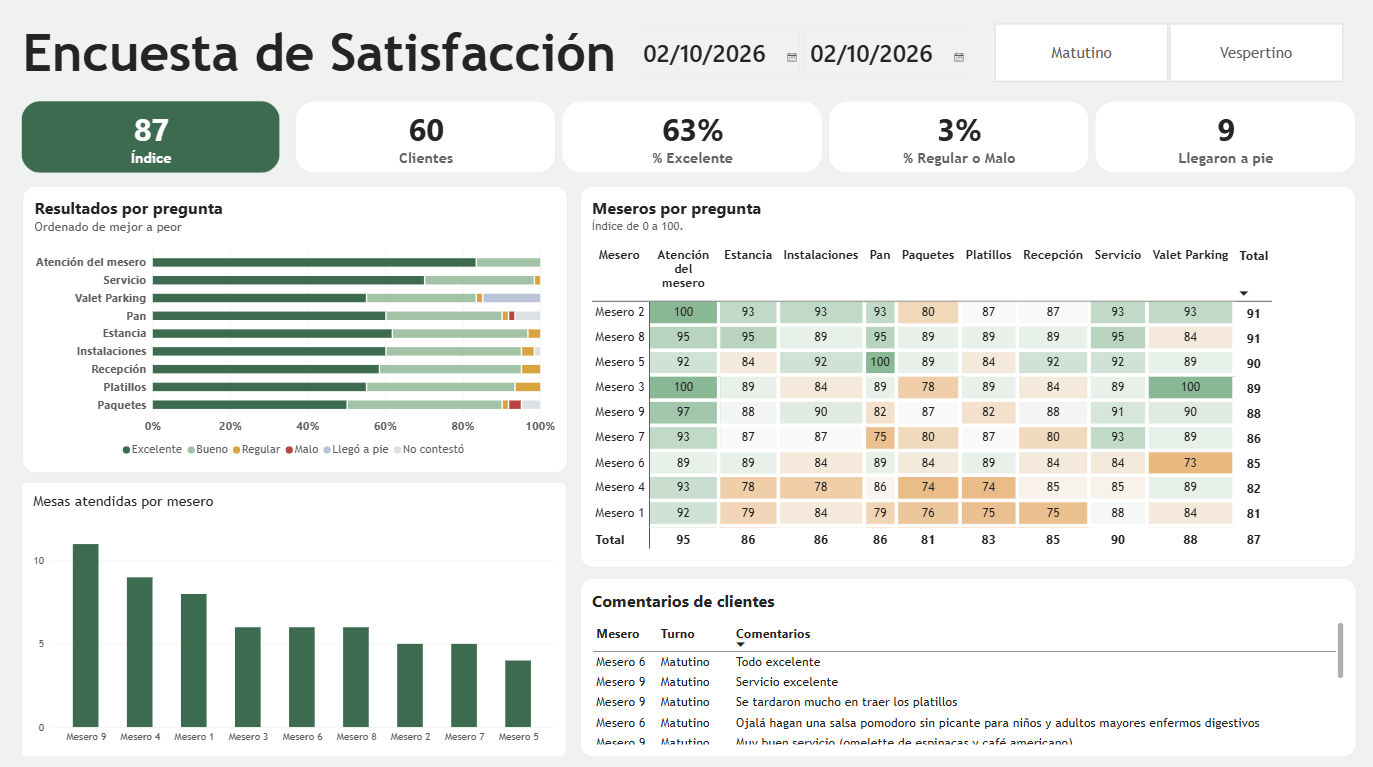

Layout of this report page (visuals, bound fields, positions):
{"tool":"powerbi","page":{"name":"Página 1","canvas":[1920,1080],"ordinal":0},"visuals":[{"type":"hundredPercentStackedBarChart","title":"Resultados por pregunta","fields":{"Category":["Calificaciones.Pregunta"],"Series":["Escala.Respuesta"],"Y":["Calificaciones.Total respuestas"]},"box":[31.4,263.4,760.5,401.2],"z":0},{"type":"pivotTable","title":"Meseros por pregunta","fields":{"Columns":["Calificaciones.Pregunta"],"Rows":["Respuestas.Mesero"],"Values":["Calificaciones.Índice"]},"box":[809.3,263.4,1082.5,532.5],"z":1000},{"type":"slicer","fields":{"Values":["Respuestas.Turno"]},"box":[1367.5,35,525,85],"z":2000},{"type":"cardVisual","fields":{"Data":["Calificaciones.Clientes","Calificaciones.% Excelente","Calificaciones.% Regular o Malo","Calificaciones.Llegaron a pie"]},"box":[411.6,144.8,1480.8,101.2],"z":3000},{"type":"tableEx","title":"Comentarios de clientes","fields":{"Values":["Respuestas.Mesero","Respuestas.Turno","Respuestas.Comentarios"]},"box":[809.3,811,1083.1,249.4],"z":4000},{"type":"textbox","box":[30,35,831.6,111.1],"z":5000},{"type":"slicer","fields":{"Values":["Respuestas.Fecha"]},"box":[880,35,487.8,84.4],"z":6000},{"type":"cardVisual","fields":{"Data":["Calificaciones.Índice"]},"box":[29.7,144.8,361,101.2],"z":7000},{"type":"clusteredColumnChart","title":"Mesas atendidas por mesero","fields":{"Category":["Respuestas.Mesero"],"Y":["Calificaciones.Clientes"]},"box":[29.7,676.7,760.5,383.7],"z":7001}]}

Visuals, with their boxes in screenshot pixels (x1, y1, x2, y2), scaled from the page's 1920x1080 canvas onto the 1373x767 screenshot:
"Resultados por pregunta" hundredPercentStackedBarChart: (22,187,566,472)
"Meseros por pregunta" pivotTable: (579,187,1353,565)
slicer - Respuestas.Turno: (978,25,1353,85)
cardVisual - Calificaciones.Clientes x Calificaciones.% Excelente: (294,103,1353,175)
"Comentarios de clientes" tableEx: (579,576,1353,753)
textbox: (21,25,616,104)
slicer - Respuestas.Fecha: (629,25,978,85)
cardVisual - Calificaciones.Índice: (21,103,279,175)
"Mesas atendidas por mesero" clusteredColumnChart: (21,481,565,753)
